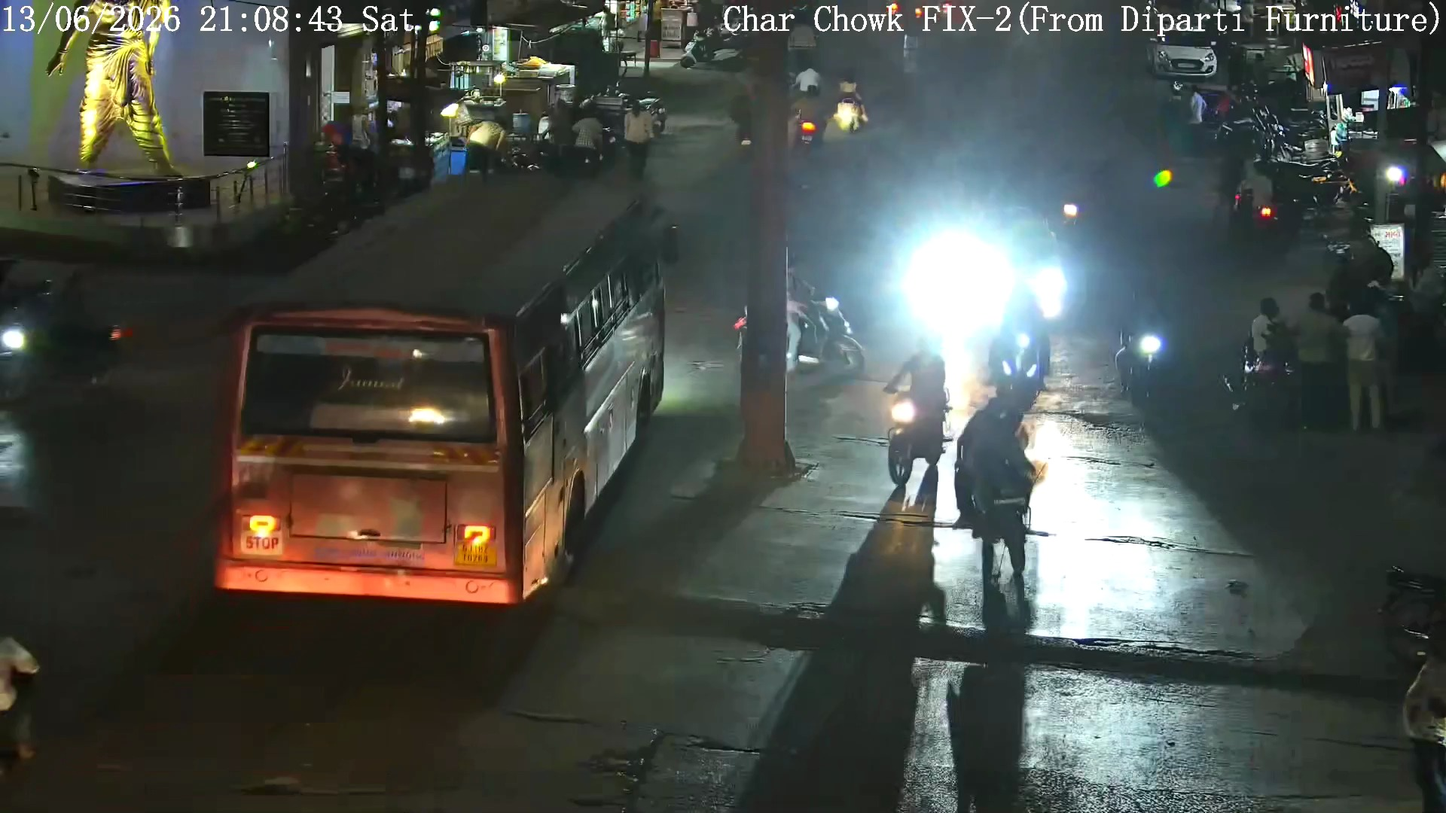auto_rickshaw: (1394, 604, 1446, 802), (0, 592, 48, 783)
bus: (198, 233, 708, 646)
pedestrian: (1236, 287, 1299, 421)
truck: (197, 234, 707, 648)
two_wheeler: (1113, 305, 1173, 392), (0, 267, 37, 408), (789, 56, 824, 96)
